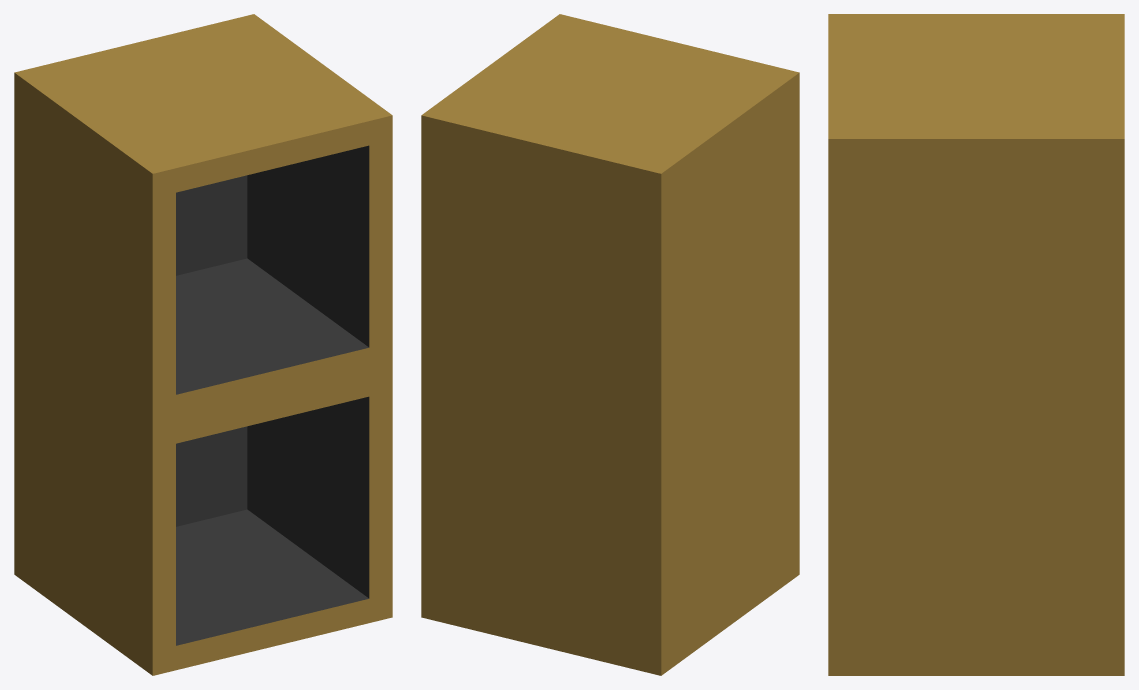
The model's file is Rak.fbx.
3 renders of one model, left to right at view 1: azimuth 30°, elevation 25°; view 2: azimuth 150°, elevation 25°; view 3: azimuth 270°, elevation 25°, orthographic. The views are drawn at different scales.
Parts seen in each view (by area): view 1: Cube.007; view 2: Cube.007; view 3: Cube.007.
Boxes of the visible parts, x1,y1,x2,y2 form: Cube.007: (14,14,392,675); Cube.007: (421,14,799,675); Cube.007: (828,14,1124,675).
Size of the model in its own units: 200 by 400 by 200.
